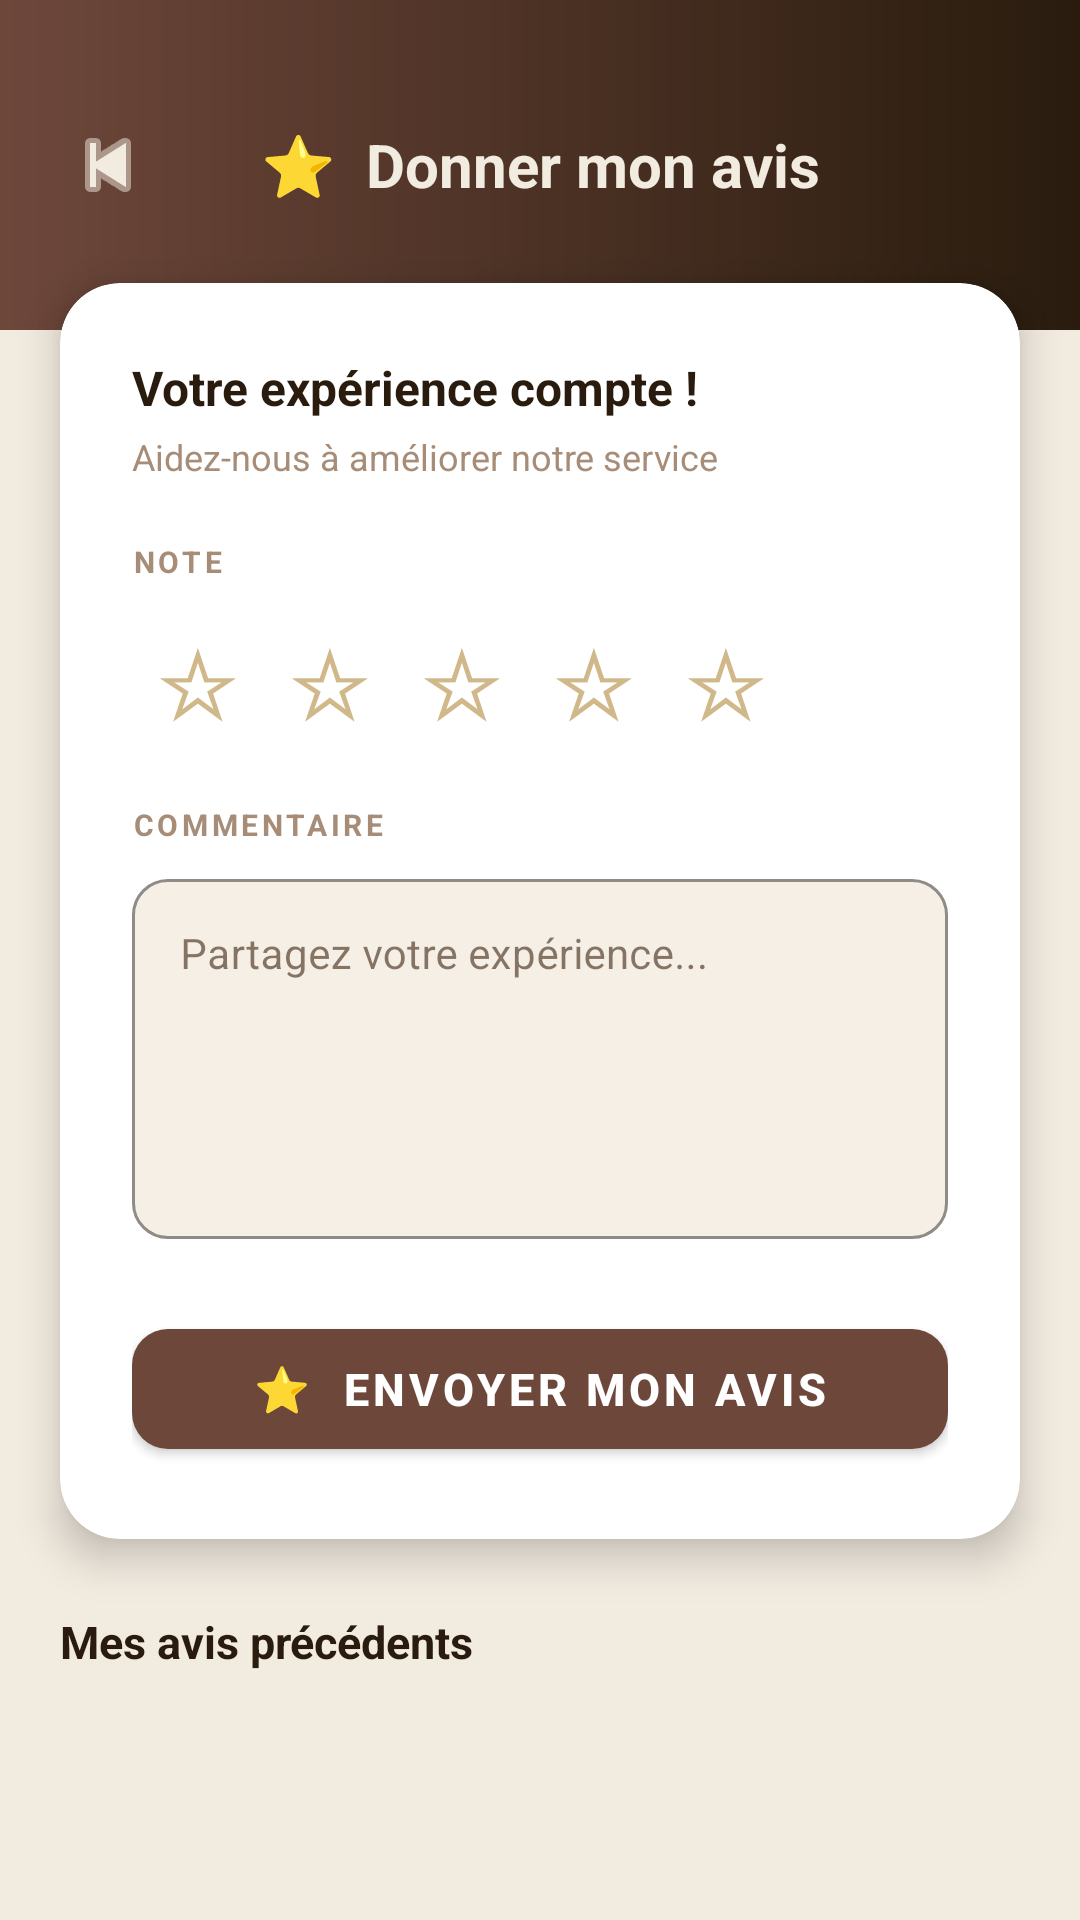

Icon click points for this 1080×1920 phone screenshot, format point (x, y):
previous: point (108, 165)
